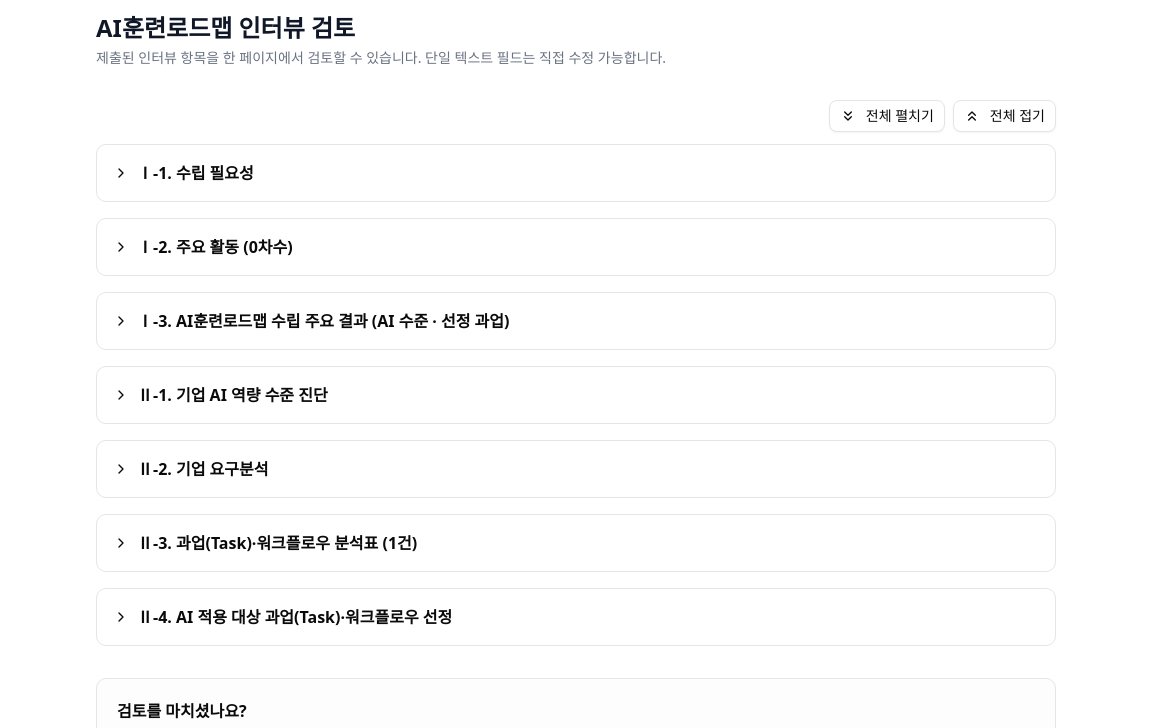
it: InterviewReviewClient › 로드맵 트랙 › Ⅰ-2 주요 활동 — 차수 0개일 때 카드 펼치면 안내 문구
카드 헤더 (차수 0개 라벨) 클릭으로 펼침
Click the button "Ⅰ-2. 주요 활동 (0차수)".
click(215, 247)  # box [113, 235, 1039, 259]
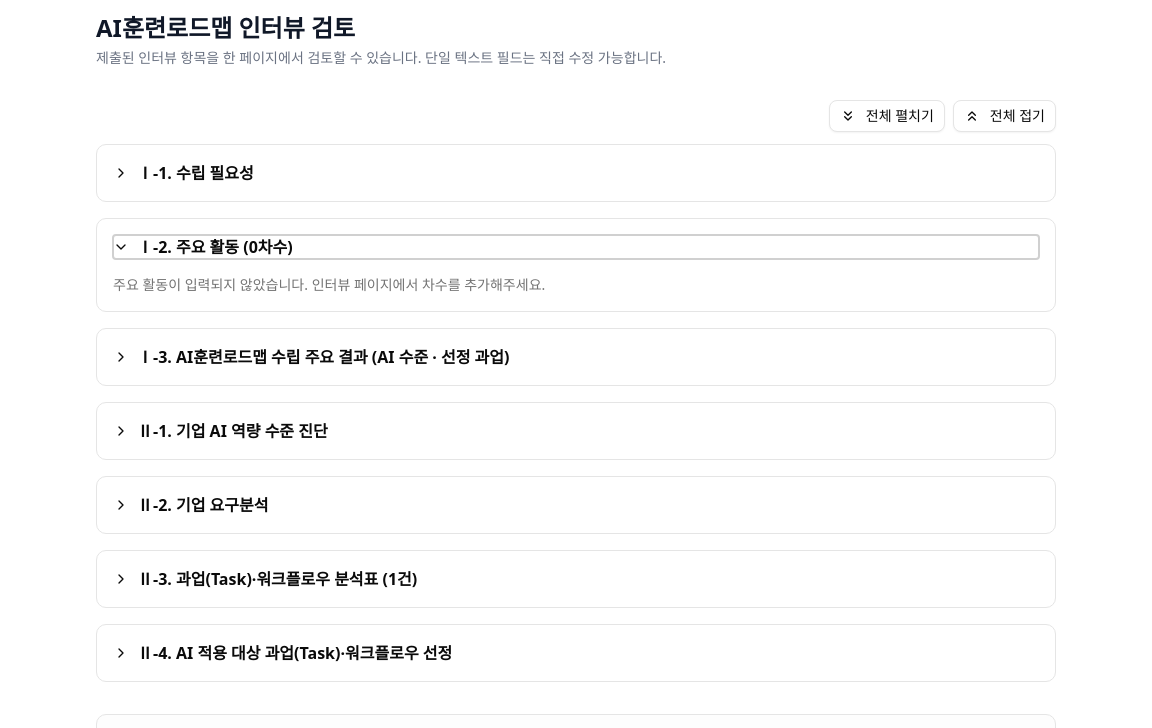
Result: the text "주요 활동이 입력되지 않았습니다. 인터뷰 페이지에서 차수를 추가해주세요." is shown at [113, 275, 545, 294]
